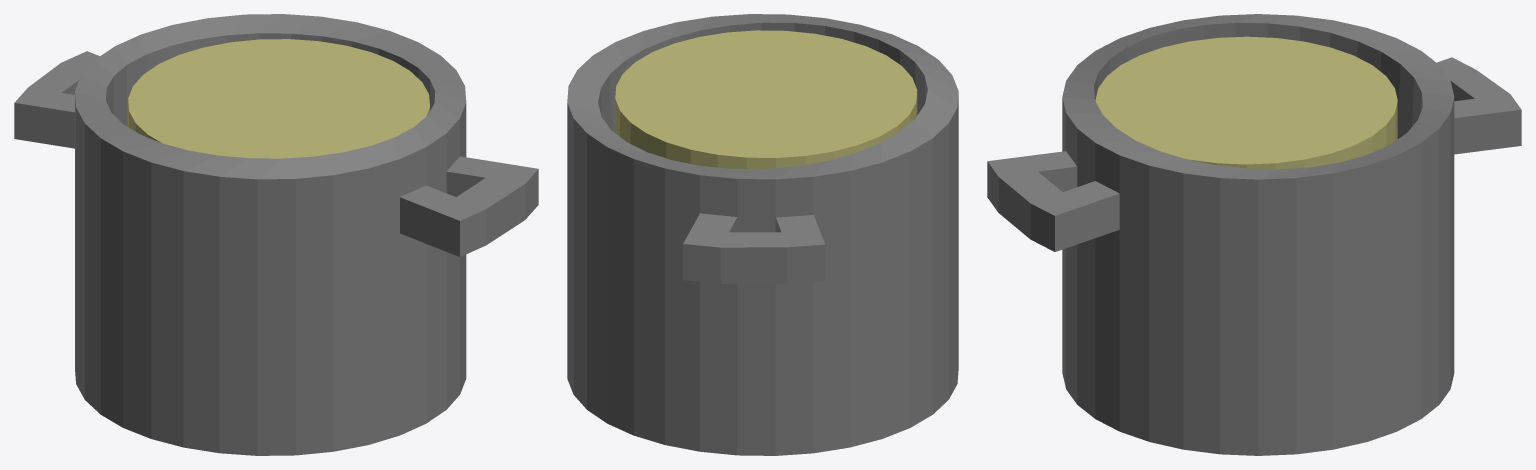
The model's file is OllaManzaBien.fbx.
The picture shows the model from 3 angles, left to right: view 1: azimuth 30°, elevation 25°; view 2: azimuth 150°, elevation 25°; view 3: azimuth 270°, elevation 25°; orthographic projection.
Parts seen in each view (by area): view 1: Cylinder, Cylinder.001; view 2: Cylinder, Cylinder.001; view 3: Cylinder, Cylinder.001.
Part boxes in pixels (x1,y1,x2,y2): Cylinder: (14, 14, 538, 455); Cylinder.001: (128, 39, 429, 158); Cylinder: (567, 14, 958, 455); Cylinder.001: (615, 30, 917, 168); Cylinder: (987, 14, 1521, 455); Cylinder.001: (1095, 36, 1397, 169).
Bounding box in the file's own units: 45 × 35.99 × 61.33.
